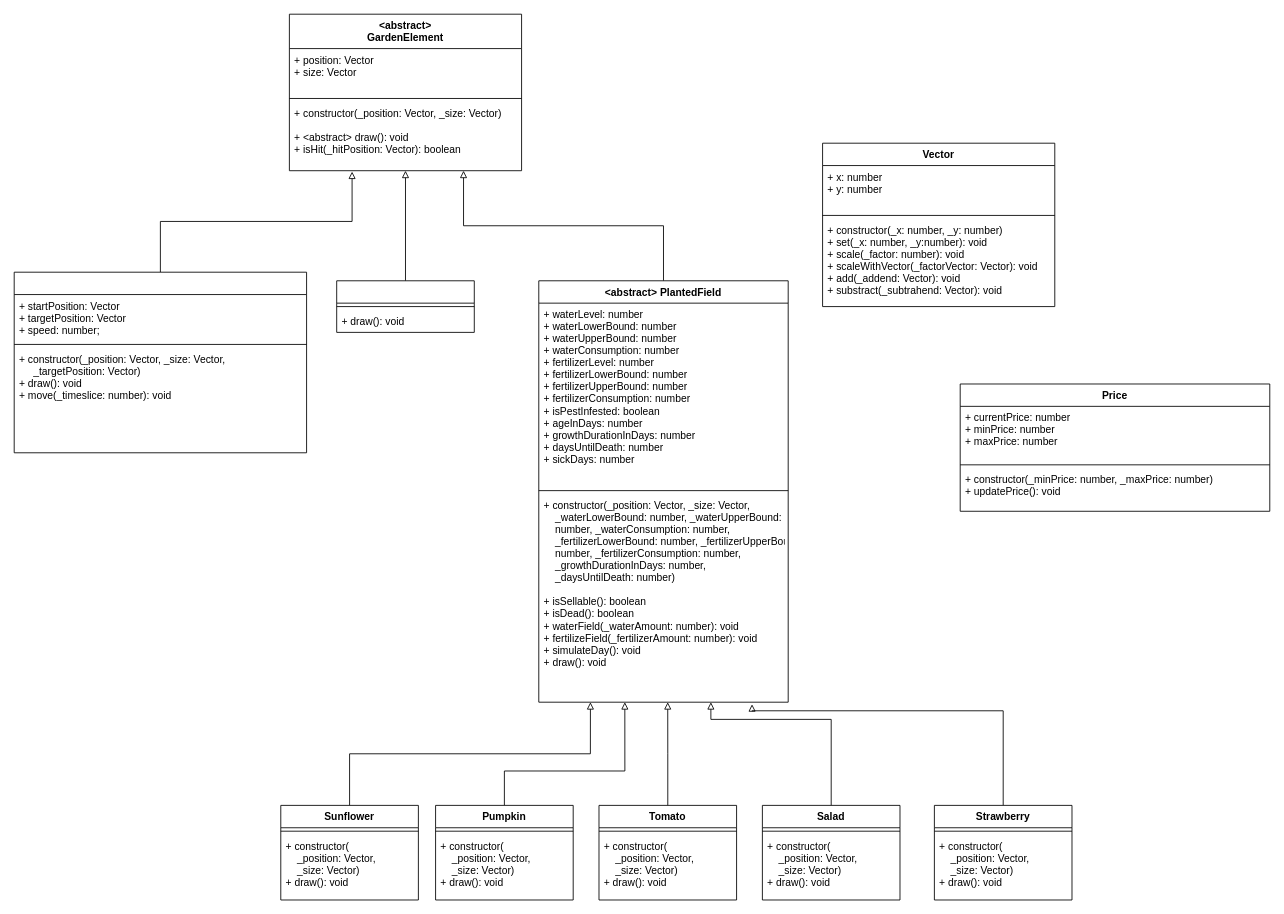
The diagram is 1284 pixels wide and 914 high, and some of its shapes have lost their labels. Each missing label, with the box of its shape:
EmptyField: (336, 280, 474, 332)
Parasite: (13, 271, 307, 453)
